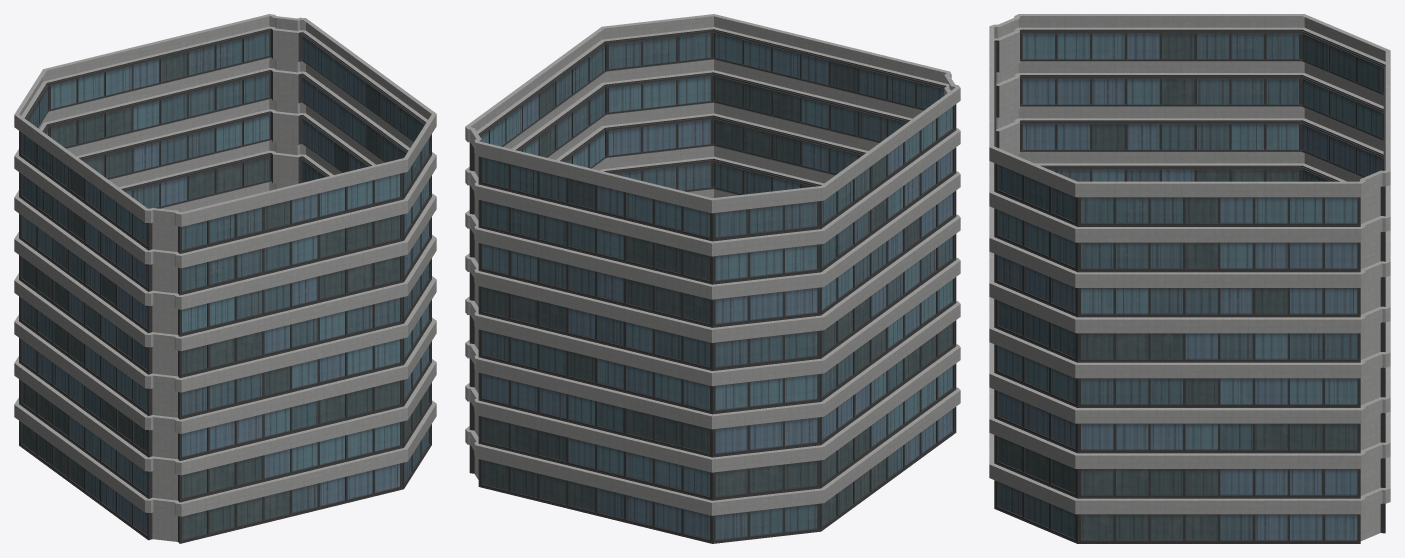
Rendered from jctBld24_C_mdl.fbx.
3 views of the same model, side by side, from view 1: azimuth 30°, elevation 25°; view 2: azimuth 150°, elevation 25°; view 3: azimuth 270°, elevation 25° (orthographic). The views are drawn at different scales.
Visible parts, largest first — view 1: jctBld24_C_mdl_LOD0; view 2: jctBld24_C_mdl_LOD0; view 3: jctBld24_C_mdl_LOD0.
Boxes of the visible parts, x1,y1,x2,y2 form: jctBld24_C_mdl_LOD0: (14, 14, 436, 543); jctBld24_C_mdl_LOD0: (465, 14, 960, 543); jctBld24_C_mdl_LOD0: (989, 14, 1390, 543).
Bounding box in the file's own units: 2410 × 2400 × 2410.
